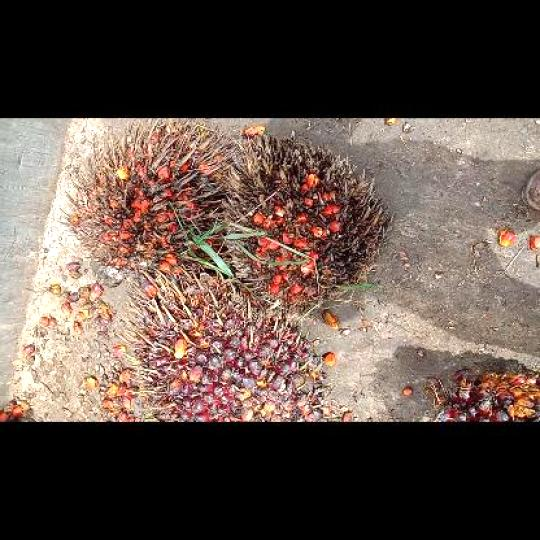masak: (117, 260, 337, 420)
terlalu masak: (221, 132, 392, 317), (57, 120, 226, 282)
